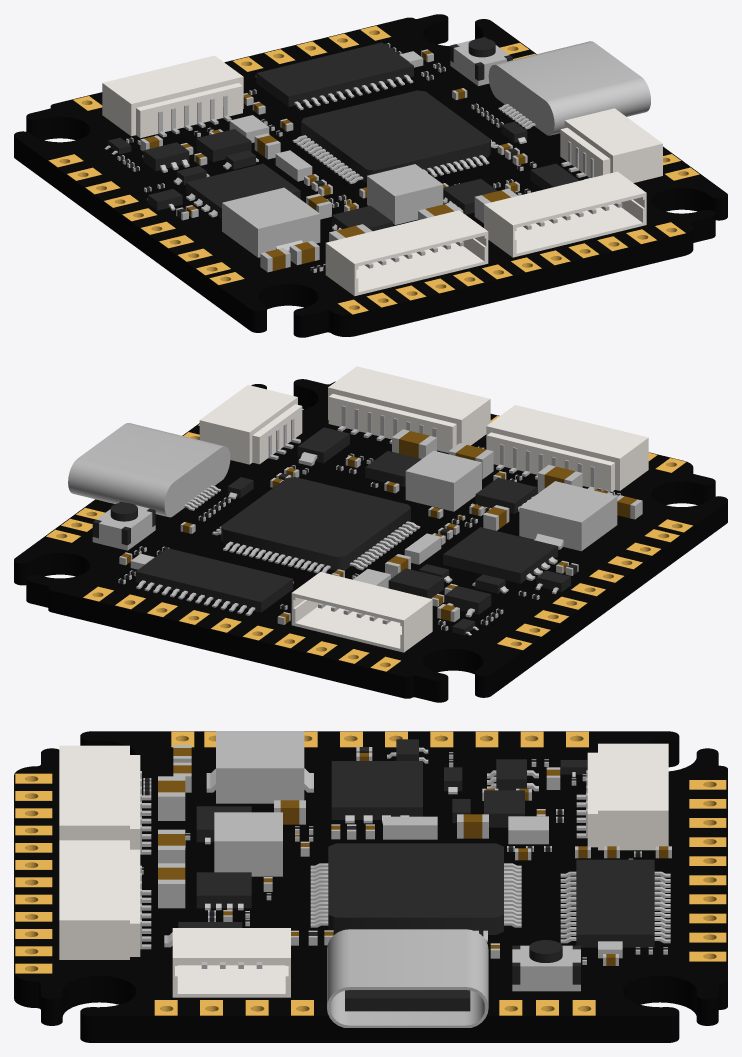
3 views of the same model, one above another, from view 1: azimuth 30°, elevation 25°; view 2: azimuth 150°, elevation 25°; view 3: azimuth 270°, elevation 25° (orthographic). The views are drawn at different scales.
Visible parts, largest first — view 1: fc_joined; view 2: fc_joined; view 3: fc_joined.
Boxes of the visible parts, box(x1,y1,x2,y2) form: fc_joined: box(14, 14, 727, 337); fc_joined: box(14, 366, 727, 702); fc_joined: box(14, 731, 727, 1042).
Size of the model in its own units: 0.3831 by 0.0475 by 0.389.
